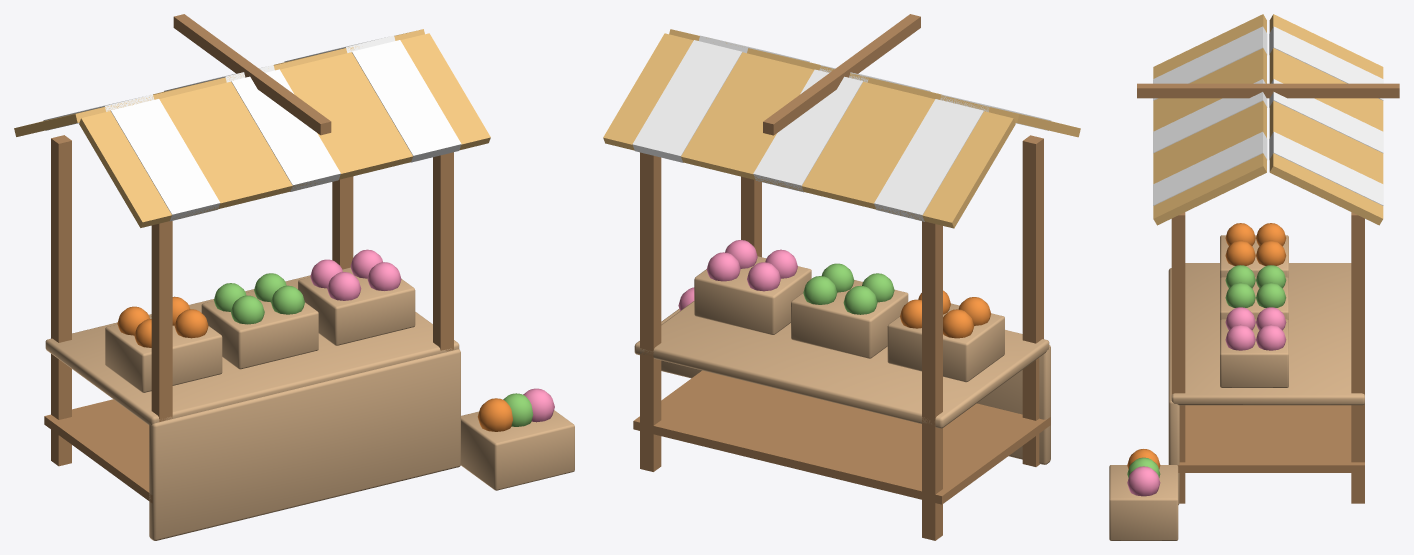
Rendered from market_stall_yellow.glb.
The picture shows the model from 3 angles, left to right: view 1: azimuth 30°, elevation 25°; view 2: azimuth 150°, elevation 25°; view 3: azimuth 270°, elevation 25°; orthographic projection. The views are drawn at different scales.
Visible parts, largest first — view 1: market_stall_yellow; view 2: market_stall_yellow; view 3: market_stall_yellow.
Part boxes in pixels (x1,y1,x2,y2): market_stall_yellow: (14, 14, 574, 540); market_stall_yellow: (603, 14, 1080, 540); market_stall_yellow: (1109, 14, 1399, 540).
Bounding box in the file's own units: 3.05 × 2.82 × 2.1.
